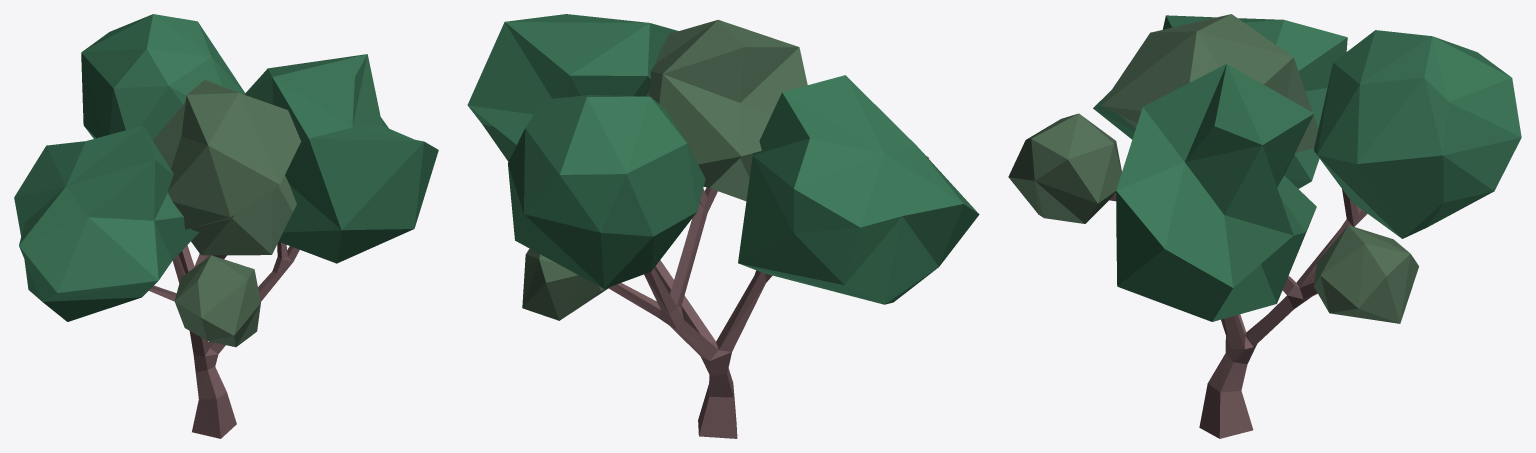
The model's file is big_tree_1.fbx.
The picture shows the model from 3 angles, left to right: view 1: azimuth 30°, elevation 25°; view 2: azimuth 150°, elevation 25°; view 3: azimuth 270°, elevation 25°; orthographic projection. The views are drawn at different scales.
Parts seen in each view (by area): view 1: Icosphere.002, Icosphere.001, Icosphere.003, Icosphere, Icosphere.004, branches; view 2: Icosphere.002, Icosphere, Icosphere.003, Icosphere.001, branches, Icosphere.005; view 3: Icosphere.001, Icosphere, Icosphere.003, Icosphere.004, Icosphere.005, branches, Icosphere.002.
Part boxes in pixels (x1,y1,x2,y2): Icosphere.002: (14, 126, 198, 321); Icosphere.001: (244, 54, 438, 263); Icosphere.003: (152, 80, 300, 255); Icosphere: (81, 14, 245, 139); Icosphere.004: (174, 255, 260, 347); branches: (149, 242, 299, 438); Icosphere.002: (738, 75, 979, 304); Icosphere: (508, 95, 705, 288); Icosphere.003: (646, 19, 807, 200); Icosphere.001: (467, 14, 678, 161); branches: (609, 187, 772, 438); Icosphere.005: (522, 248, 610, 320); Icosphere.001: (1116, 64, 1316, 321); Icosphere: (1314, 30, 1521, 238); Icosphere.003: (1101, 14, 1318, 153); Icosphere.004: (1008, 113, 1121, 223); Icosphere.005: (1314, 225, 1418, 323); branches: (1109, 189, 1367, 438); Icosphere.002: (1093, 15, 1347, 188).
Bounding box in the file's own units: 537 × 579 × 472.
